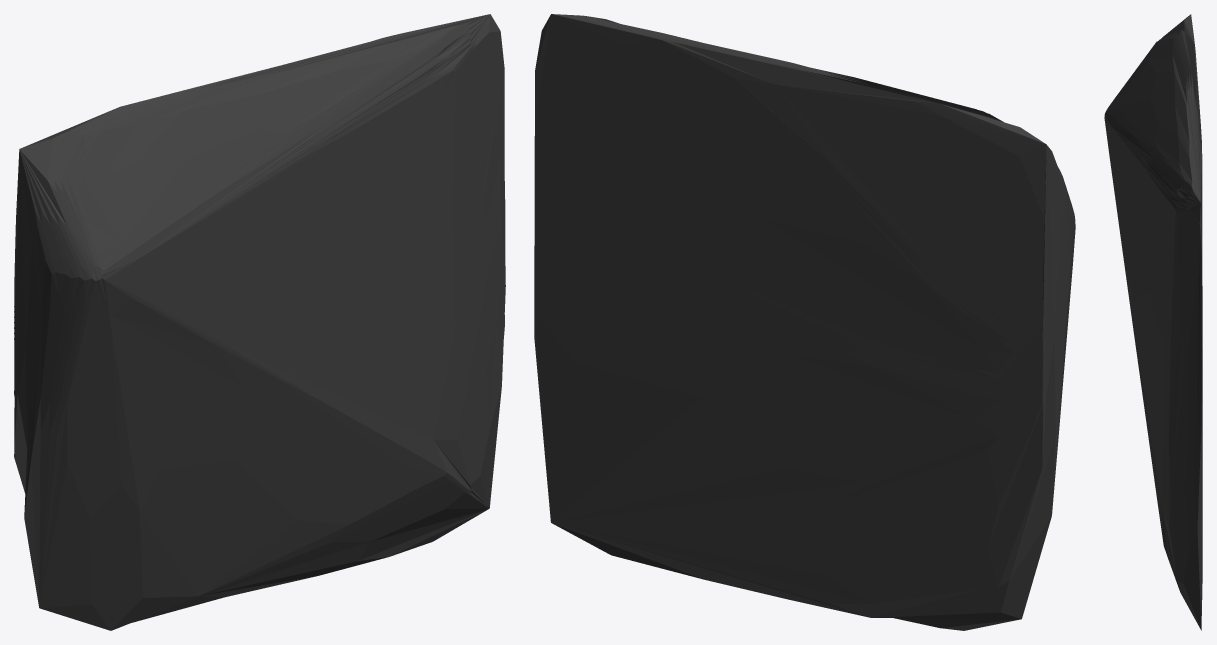
Rendered from tmp_hill.glb.
3 renders of one model, left to right at view 1: azimuth 30°, elevation 25°; view 2: azimuth 150°, elevation 25°; view 3: azimuth 270°, elevation 25°, orthographic. The views are drawn at different scales.
Parts seen in each view (by area): view 1: body; view 2: body; view 3: body.
Boxes of the visible parts, x1,y1,x2,y2 form: body: (14,14,505,630); body: (534,14,1075,630); body: (1104,14,1202,630).
Size of the model in its own units: 3991 by 3986 by 794.
1 material, 1 textured.
